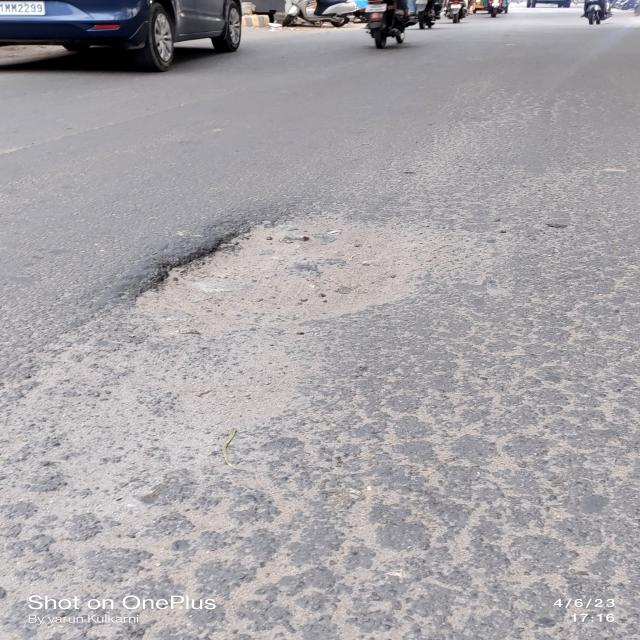potholes: (120, 194, 437, 335)
